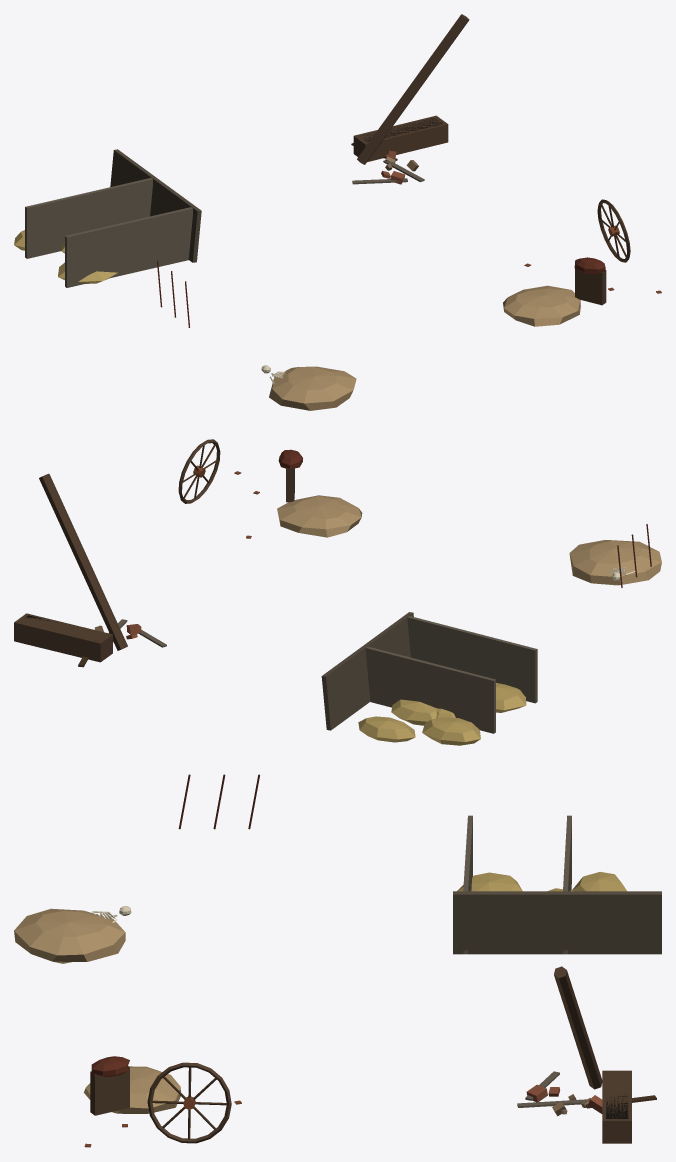
The model's file is TownRoom_stable.glb.
3 views of the same model, one above another, from view 1: azimuth 30°, elevation 25°; view 2: azimuth 150°, elevation 25°; view 3: azimuth 270°, elevation 25° (orthographic). The views are drawn at different scales.
Visible parts, largest first — view 1: TownRoom_stable.001; view 2: TownRoom_stable.001; view 3: TownRoom_stable.001.
Part boxes in pixels (x1=…): TownRoom_stable.001: x1=14, y1=14, x2=661, y2=410; TownRoom_stable.001: x1=14, y1=439, x2=661, y2=745; TownRoom_stable.001: x1=14, y1=774, x2=661, y2=1147.
Size of the model in its own units: 12.8 by 4.34 by 13.03.
